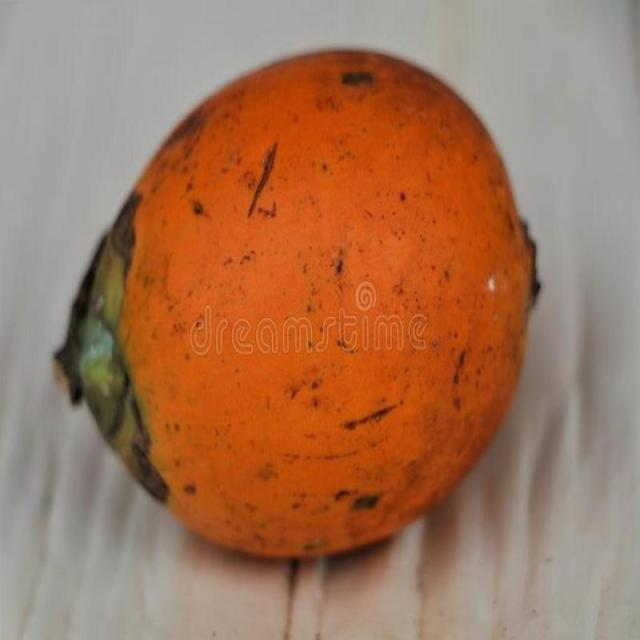good: (54, 48, 540, 563)
